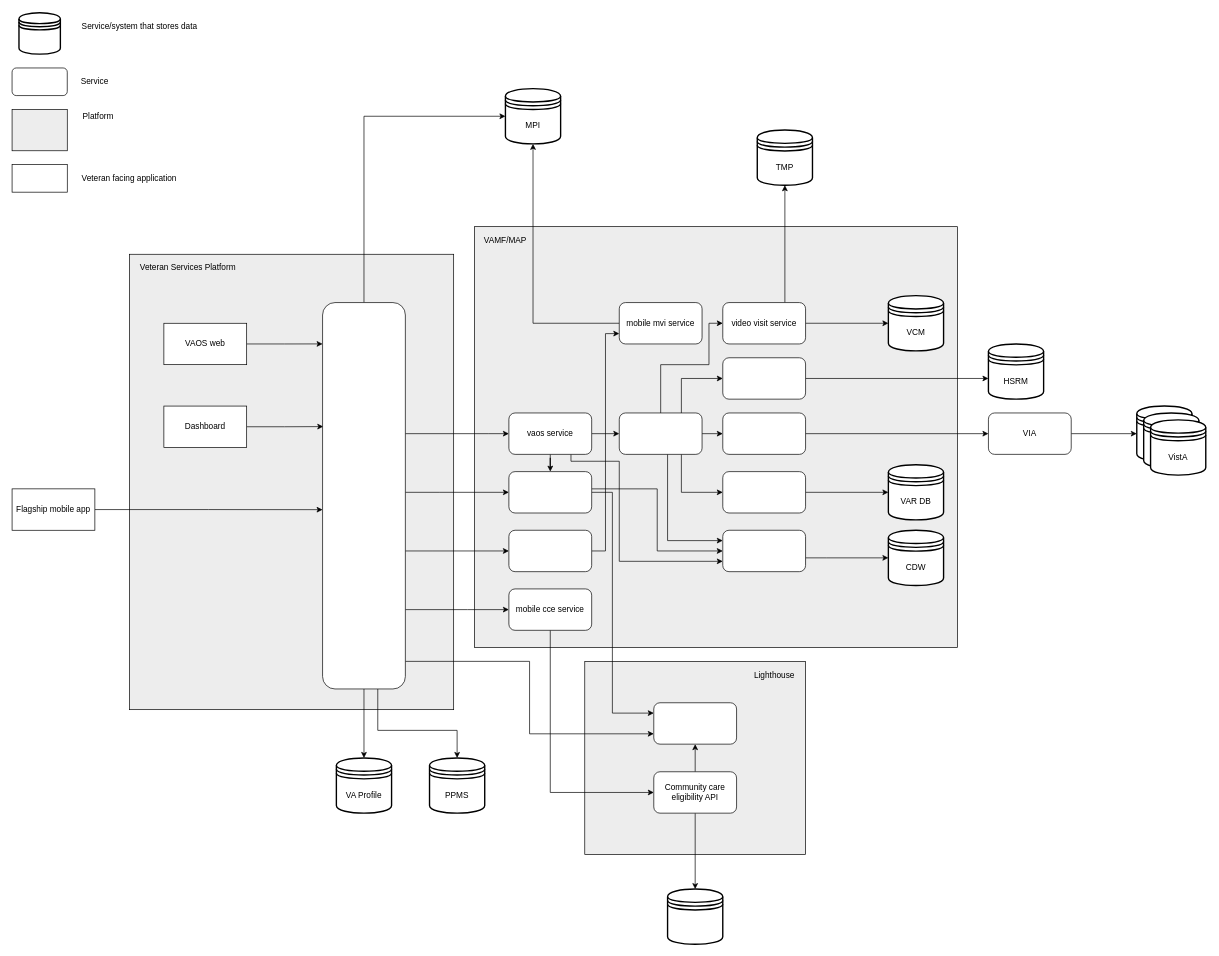
This 1219x956 diagram has some shape labels left out. The centre of each missing label's shape, as x and y in pixels:
"appointment request service" belongs at [764,492].
"cdw service" belongs at [764,551].
"ESR" belongs at [695,916].
"Facilities API" belongs at [695,723].
"mobile appointment service" belongs at [660,433].
"mobile facility service" belongs at [550,492].
"mobile hsrm service" belongs at [764,378].
"user service" belongs at [550,551].
"vets-api" belongs at [363,495].
"vista scheduling service" belongs at [764,433].
